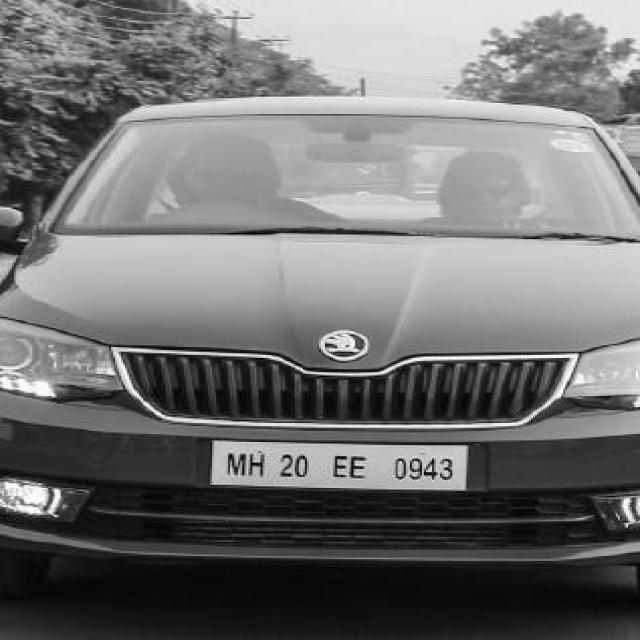license-plate: (206, 442, 468, 496)
